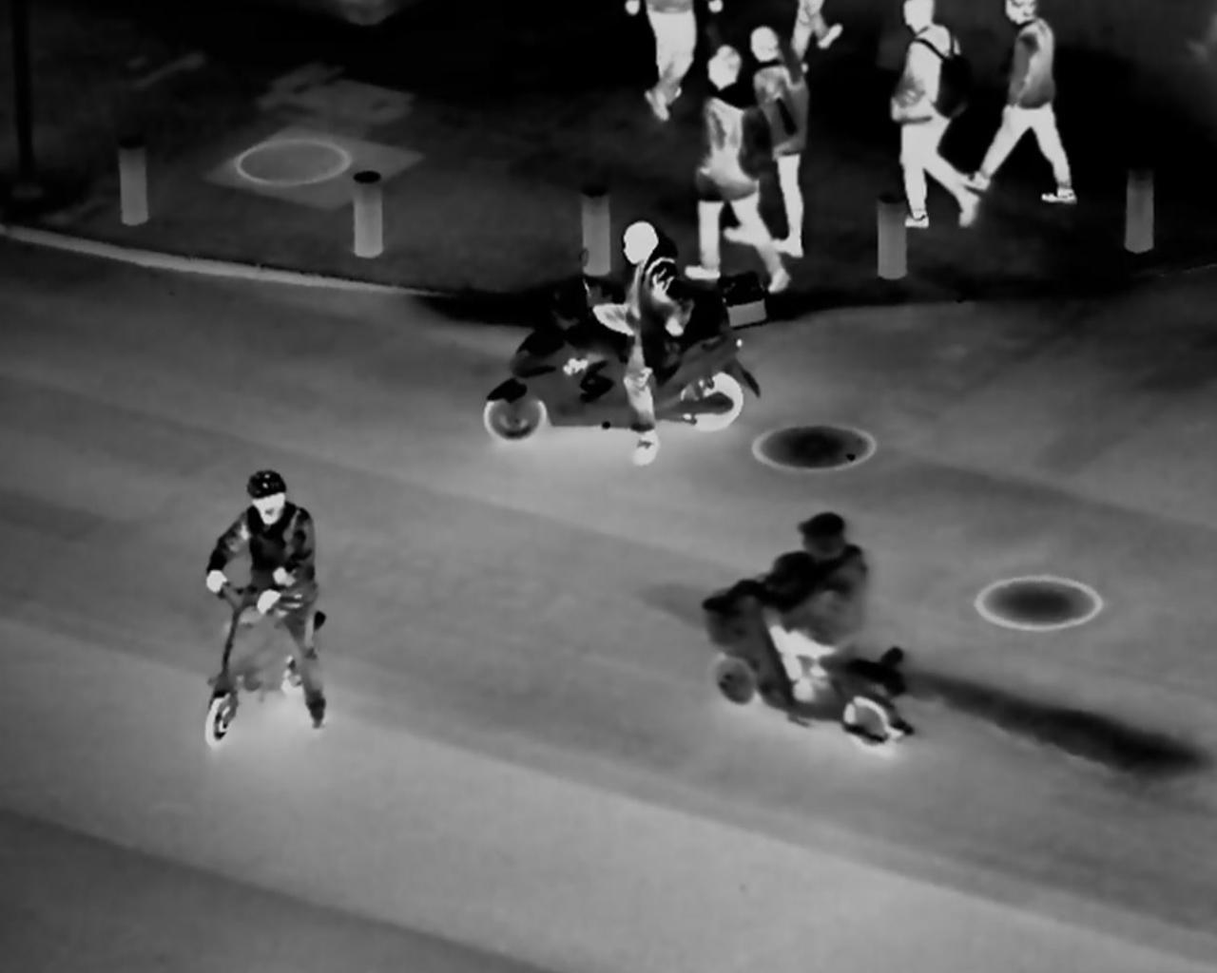person: (198, 461, 330, 729), (586, 214, 695, 462), (757, 505, 871, 728), (688, 30, 777, 290), (985, 4, 1084, 210), (890, 4, 979, 232), (744, 22, 816, 256), (782, 3, 857, 71)
